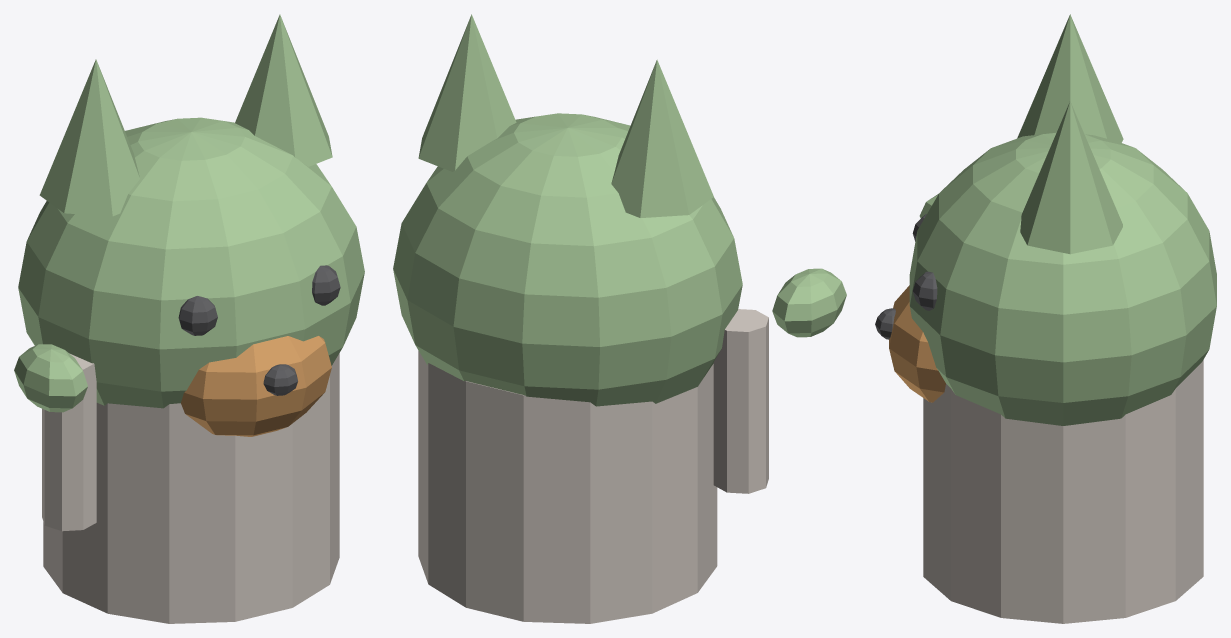
The model's file is fox.glb.
The picture shows the model from 3 angles, left to right: view 1: azimuth 30°, elevation 25°; view 2: azimuth 150°, elevation 25°; view 3: azimuth 270°, elevation 25°; orthographic projection. The views are drawn at different scales.
Parts seen in each view (by area): view 1: fox; view 2: fox; view 3: fox.
Part boxes in pixels (<box>): fox: <box>14,14,364,623</box>; fox: <box>393,14,846,623</box>; fox: <box>875,14,1216,623</box>.
Bounding box in the file's own units: 1.21 × 1.63 × 0.9985.
